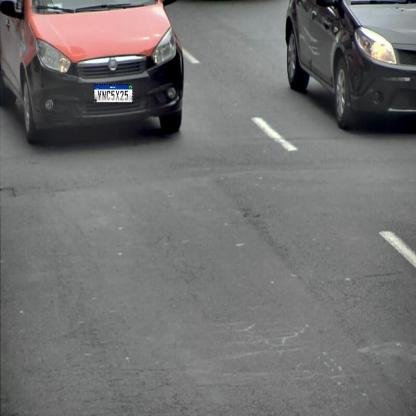PlacaM: (94, 84, 133, 103)
